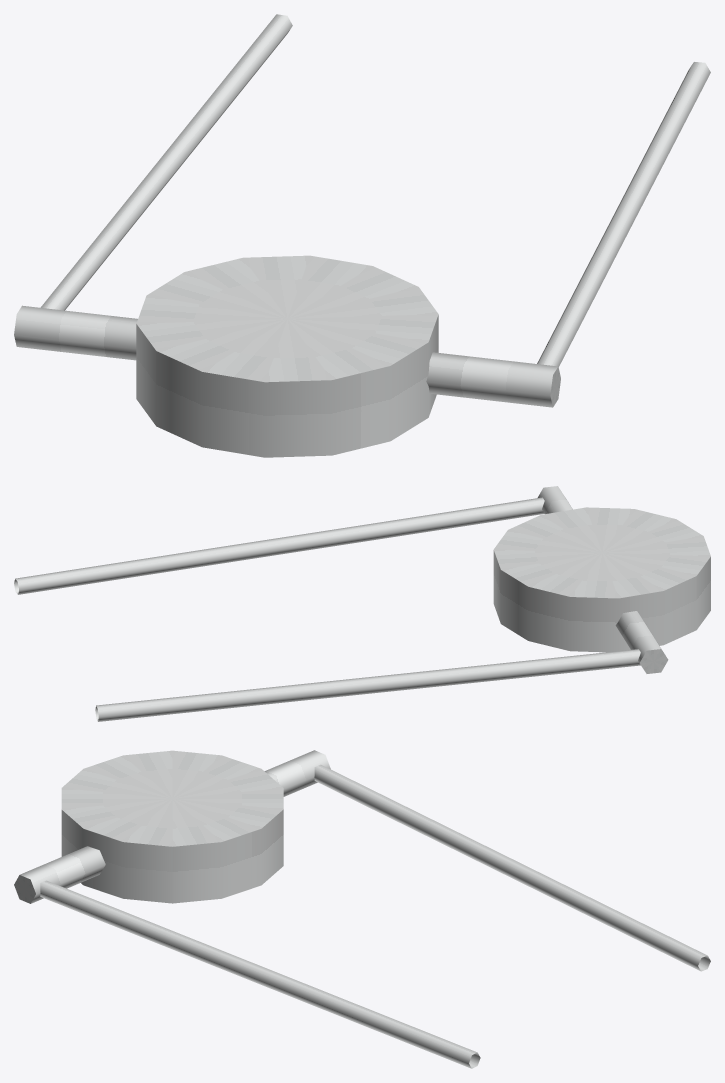
Rendered from nycsignalarm_diagonal8_c0.obj.
3 views of the same model, one above another, from view 1: azimuth 30°, elevation 25°; view 2: azimuth 150°, elevation 25°; view 3: azimuth 270°, elevation 25° (orthographic). The views are drawn at different scales.
Visible parts, largest first — view 1: nycsignalarm_diagonal8_c0; view 2: nycsignalarm_diagonal8_c0; view 3: nycsignalarm_diagonal8_c0.
Part boxes in pixels (x1,y1,x2,y2): nycsignalarm_diagonal8_c0: (14, 14, 710, 457); nycsignalarm_diagonal8_c0: (14, 486, 710, 721); nycsignalarm_diagonal8_c0: (14, 750, 710, 1068).
Size of the model in its own units: 2.51 by 0.225 by 2.51.
